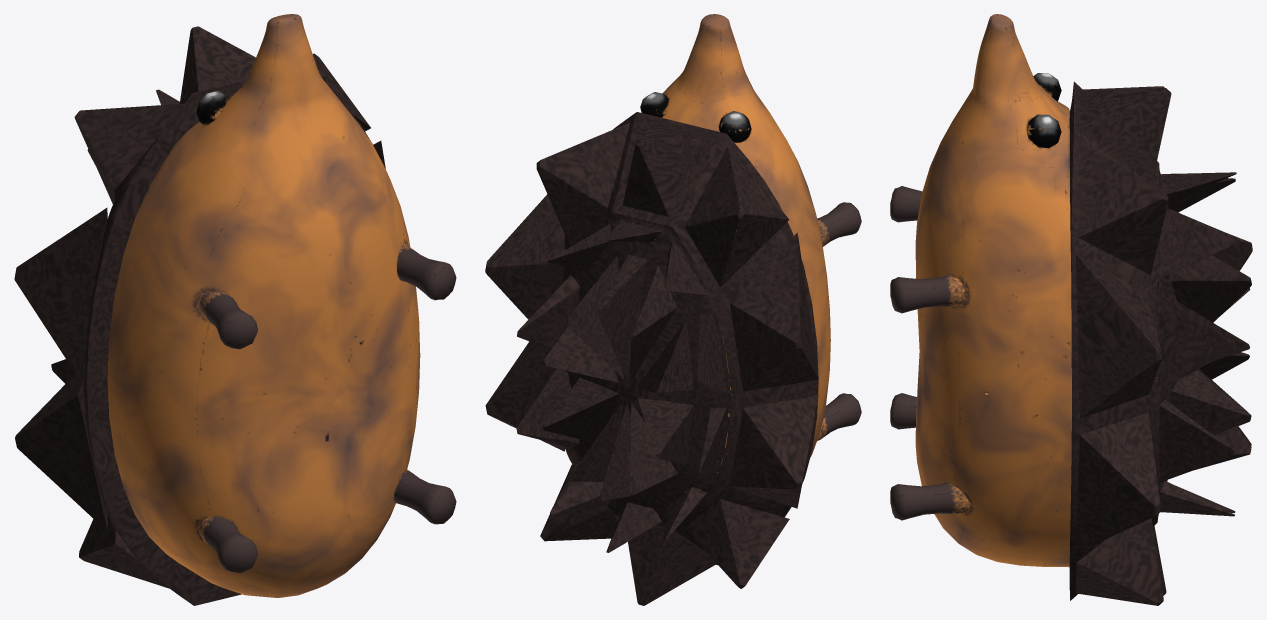
File: izick.fbx
The picture shows the model from 3 angles, left to right: view 1: azimuth 30°, elevation 25°; view 2: azimuth 150°, elevation 25°; view 3: azimuth 270°, elevation 25°; orthographic projection. The views are drawn at different scales.
Visible parts, largest first — view 1: Izik; view 2: Izik; view 3: Izik.
Boxes of the visible parts, x1,y1,x2,y2 form: Izik: (14, 14, 456, 605); Izik: (485, 14, 861, 605); Izik: (890, 14, 1252, 605).
Size of the model in its own units: 240 by 386 by 219.
1 material, 1 textured.
